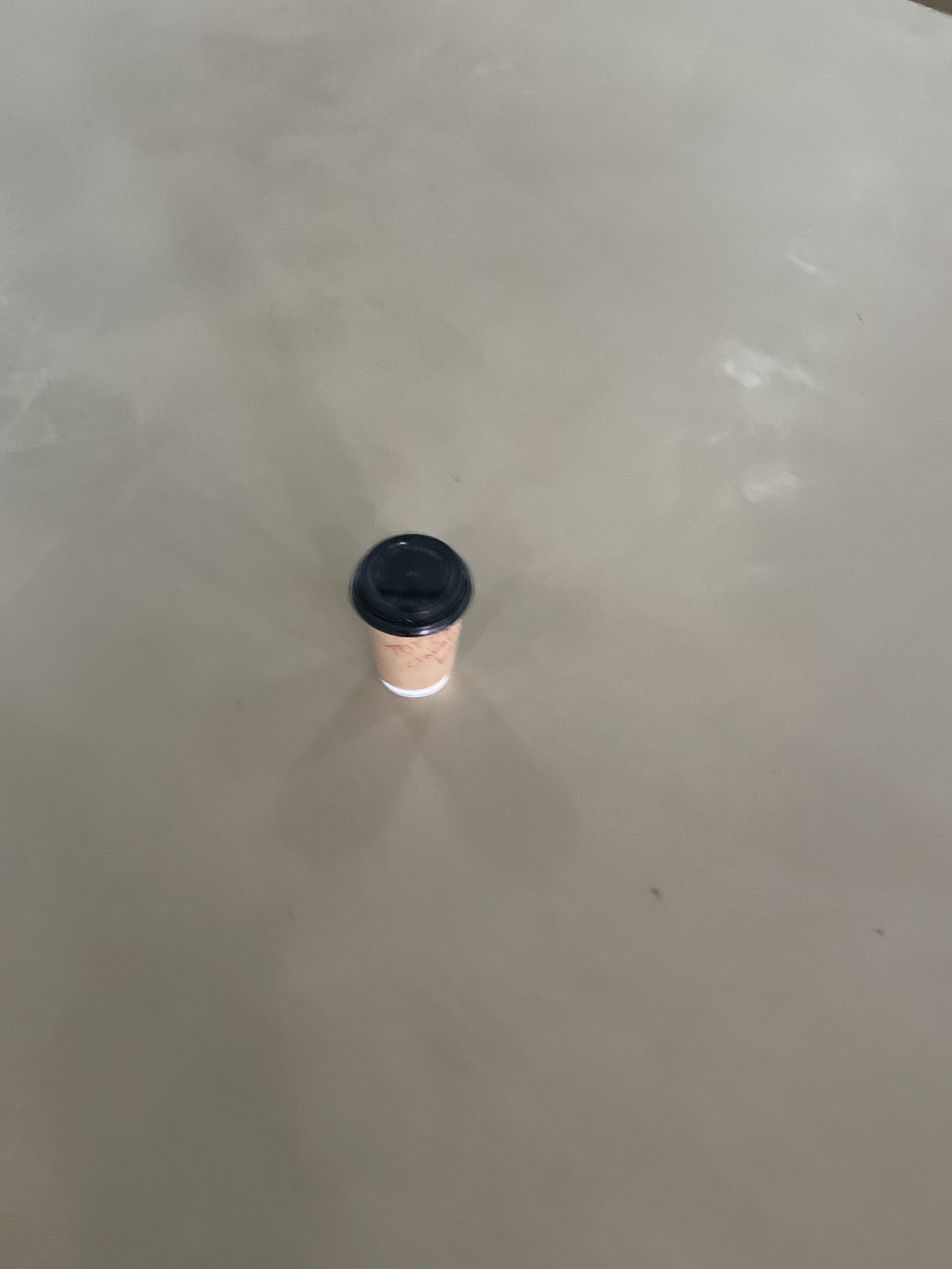cup: (347, 532, 474, 699)
